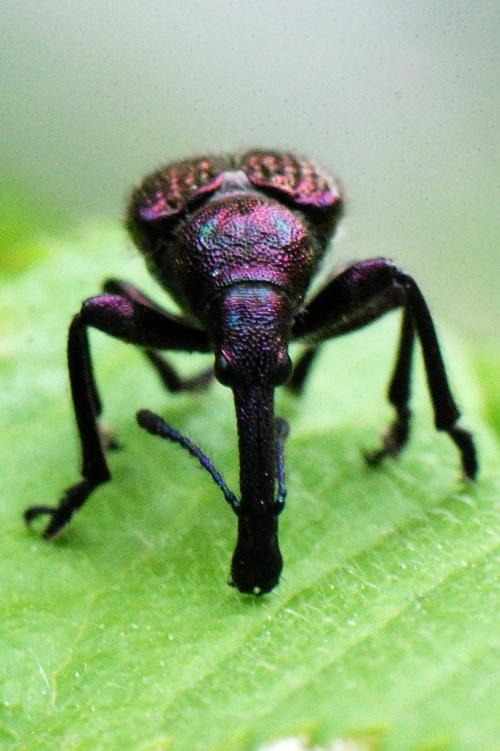Curculionidae: (23, 147, 478, 601)
